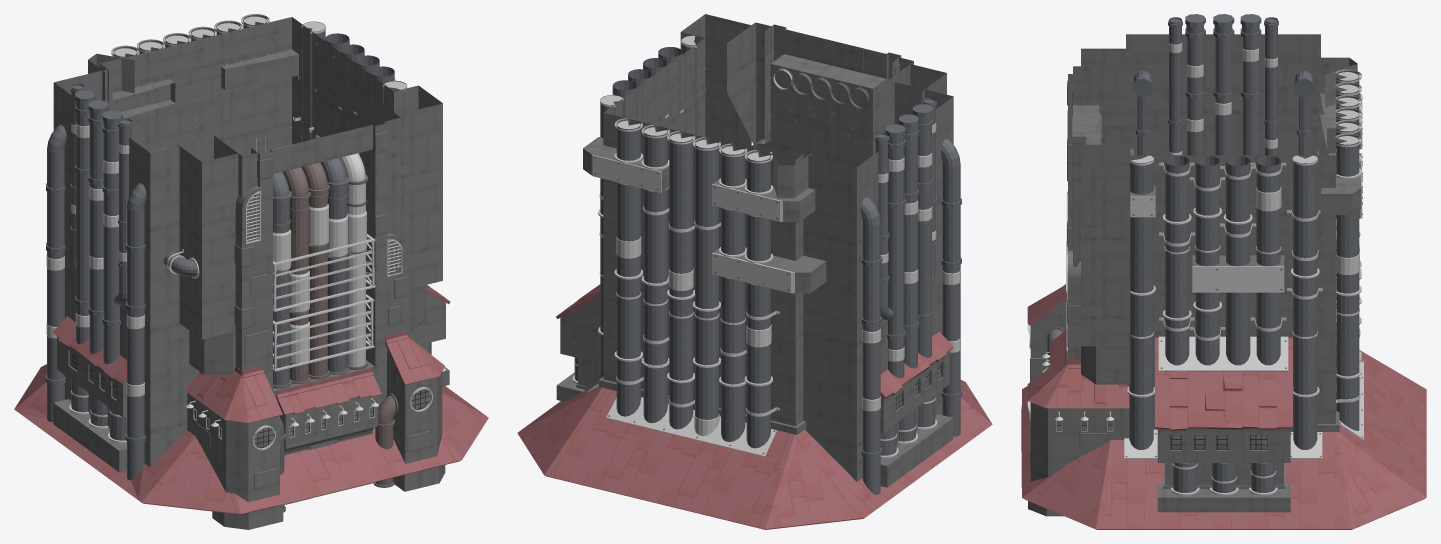
The model's file is MainTower_Bb.fbx.
The picture shows the model from 3 angles, left to right: view 1: azimuth 30°, elevation 25°; view 2: azimuth 150°, elevation 25°; view 3: azimuth 270°, elevation 25°; orthographic projection.
Parts seen in each view (by area): view 1: SM_ENV_AMVLLG02_AreaB_MainTower_Bb.mo; view 2: SM_ENV_AMVLLG02_AreaB_MainTower_Bb.mo; view 3: SM_ENV_AMVLLG02_AreaB_MainTower_Bb.mo.
Boxes of the visible parts, x1=… form: SM_ENV_AMVLLG02_AreaB_MainTower_Bb.mo: x1=14, y1=14, x2=488, y2=529; SM_ENV_AMVLLG02_AreaB_MainTower_Bb.mo: x1=517, y1=14, x2=992, y2=529; SM_ENV_AMVLLG02_AreaB_MainTower_Bb.mo: x1=1021, y1=14, x2=1426, y2=529.
Size of the model in its own units: 3735 by 3774 by 3740.
